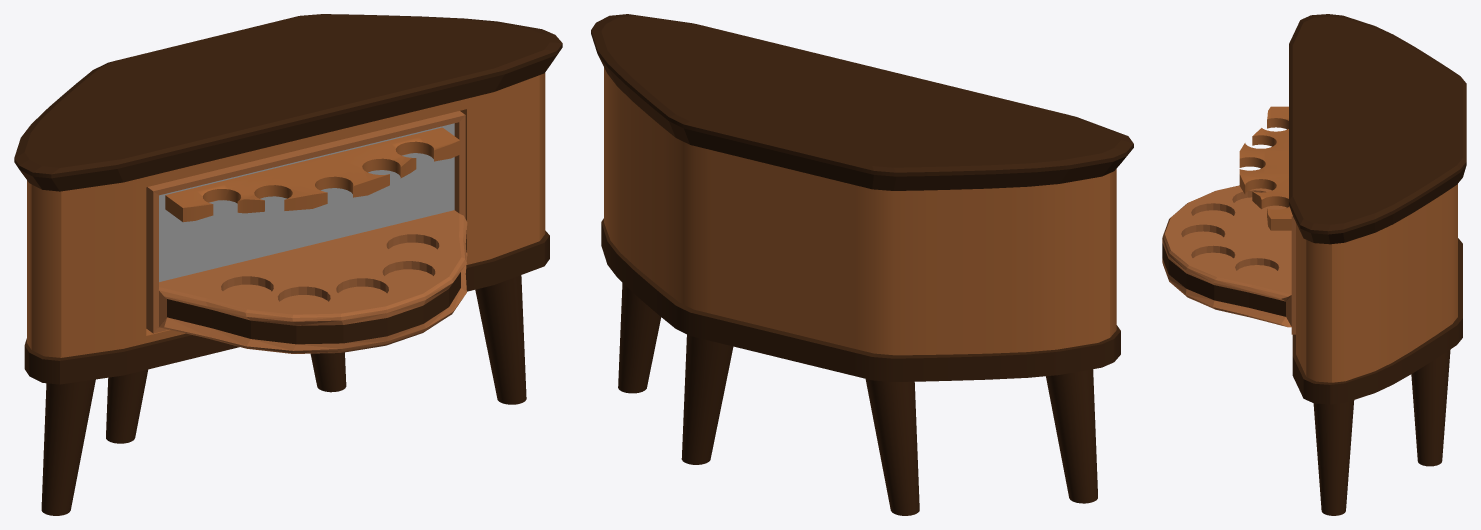
File: Mini Bar.fbx
The picture shows the model from 3 angles, left to right: view 1: azimuth 30°, elevation 25°; view 2: azimuth 150°, elevation 25°; view 3: azimuth 270°, elevation 25°; orthographic projection. The views are drawn at different scales.
Visible parts, largest first — view 1: pPlane3, pCylinder12, pPlane4, pPlane10, pPlane1, pCylinder18, pCylinder19, pCylinder21, pCylinder20; view 2: pPlane4, pPlane3, pPlane1, pCylinder21, pCylinder18, pCylinder20, pCylinder19; view 3: pPlane3, pPlane4, pCylinder12, pPlane1, pPlane10, pCylinder19, pCylinder20.
Part boxes in pixels (left/top/right/bottom): pPlane3: left=14, top=14, right=562, bottom=191; pCylinder12: left=146, top=111, right=467, bottom=353; pPlane4: left=27, top=73, right=545, bottom=357; pPlane10: left=165, top=127, right=460, bottom=222; pPlane1: left=24, top=230, right=549, bottom=384; pCylinder18: left=41, top=379, right=95, bottom=515; pCylinder19: left=475, top=275, right=526, bottom=404; pCylinder21: left=106, top=369, right=148, bottom=443; pCylinder20: left=310, top=352, right=346, bottom=392; pPlane4: left=604, top=67, right=1116, bottom=355; pPlane3: left=591, top=14, right=1133, bottom=190; pPlane1: left=601, top=218, right=1120, bottom=381; pCylinder21: left=865, top=379, right=919, bottom=515; pCylinder18: left=1046, top=369, right=1097, bottom=503; pCylinder20: left=681, top=334, right=733, bottom=464; pCylinder19: left=618, top=283, right=661, bottom=393; pPlane3: left=1289, top=14, right=1466, bottom=244; pPlane4: left=1296, top=184, right=1457, bottom=382; pCylinder12: left=1162, top=185, right=1295, bottom=334; pPlane1: left=1292, top=238, right=1462, bottom=404; pPlane10: left=1239, top=106, right=1291, bottom=230; pCylinder19: left=1313, top=400, right=1354, bottom=515; pCylinder20: left=1411, top=349, right=1450, bottom=466.
Bounding box in the file's own units: 14.99 × 9.58 × 8.88.
